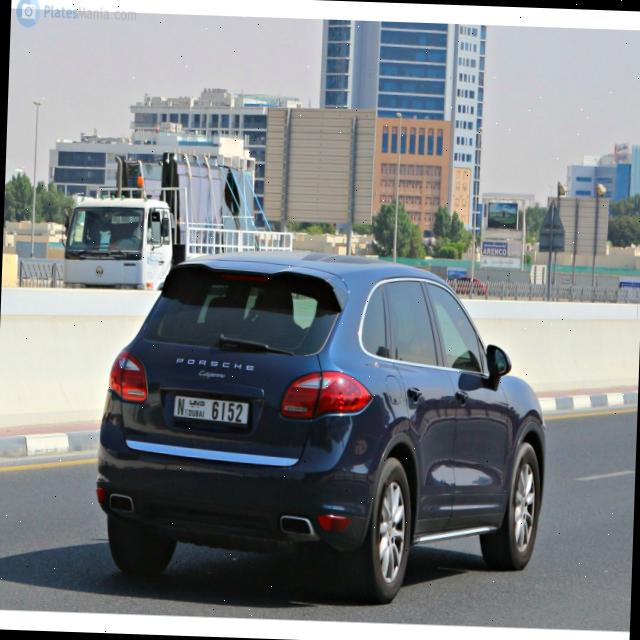License-plate: (169, 393, 251, 430)
